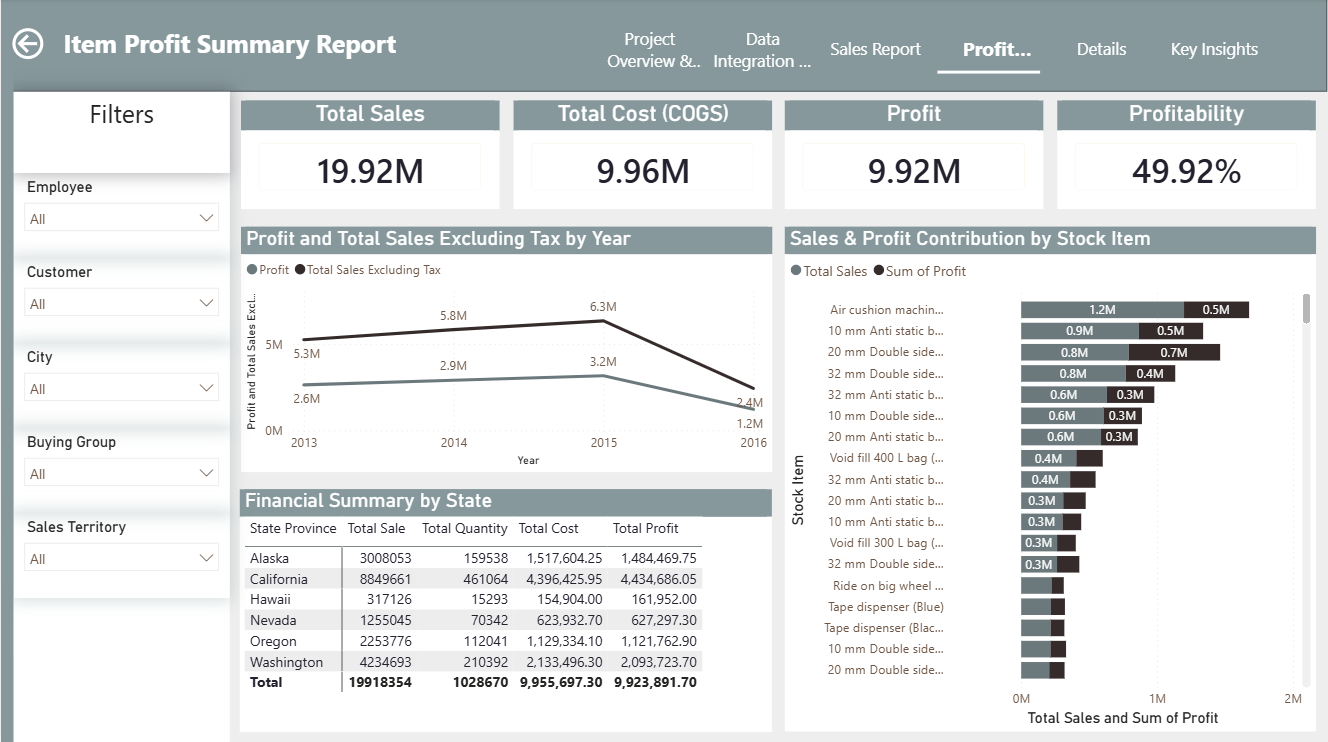

What the dashboard file says about the page in this screenshot:
{"tool":"powerbi","page":{"name":"Profit Report","canvas":[1280,720],"ordinal":3},"visuals":[{"type":"shape","box":[12.1,71.2,208.7,649.1],"z":0},{"type":"shape","box":[0,0,1280,90.5],"z":1000},{"type":"slicer","fields":{"Values":["DimEmployee.Employee"]},"box":[12.5,168.3,208.7,82.1],"z":2000},{"type":"textbox","box":[12.1,90.5,208.7,78.4],"z":3000},{"type":"shape","box":[0,0,12.3,720.4],"z":4000},{"type":"textbox","box":[53.1,22.9,335.4,45.8],"z":5000},{"type":"cardVisual","title":"Total Sales","fields":{"Data":["All Measures.Total Sale with sumx"]},"box":[231.6,98.9,249.7,105],"z":6000},{"type":"cardVisual","title":"Total Cost (COGS)","fields":{"Data":["Sum(FactSale.Cost)"]},"box":[494.2,98.9,249.7,105],"z":7000},{"type":"cardVisual","title":"Profit","fields":{"Data":["Sum(FactSale.Profit)"]},"box":[756.8,98.9,249.7,105],"z":8000},{"type":"cardVisual","title":"Profitability","fields":{"Data":["All Measures.Profitability"]},"box":[1019.4,98.9,249.7,105],"z":9000},{"type":"lineChart","fields":{"Y":["Sum(FactSale.Profit)","Sum(FactSale.Total Excluding Tax)"],"Category":["DimDate.Date.Variation.Date Hierarchy.Year","DimDate.Date.Variation.Date Hierarchy.Quarter","DimDate.Date.Variation.Date Hierarchy.Month","DimDate.Date.Variation.Date Hierarchy.Day"]},"box":[231.6,220.8,512.7,236.5],"z":10000},{"type":"barChart","title":"Sales & Profit Contribution by Stock Item","fields":{"Y":["Sum(FactSale.Total Excluding Tax)","Sum(FactSale.Profit)"],"Category":["DimStockItem.Stock Item"]},"box":[756.4,220.8,512.7,487.4],"z":11000},{"type":"pivotTable","title":"Financial Summary by State","fields":{"Rows":["DimCity.State Province"],"Values":["All Measures.Total Sale with sumx","Sum(FactSale.Quantity)","Sum(FactSale.Cost)","Sum(FactSale.Profit)"]},"box":[230.4,474.1,513.9,234],"z":12000},{"type":"slicer","fields":{"Values":["DimCustomer.Customer"]},"box":[12.5,250.4,208.7,82.1],"z":13000},{"type":"slicer","fields":{"Values":["DimCity.City"]},"box":[12.5,332.5,208.7,82.1],"z":14000},{"type":"slicer","fields":{"Values":["DimCustomer.Buying Group"]},"box":[12.5,414.6,208.7,82.1],"z":15000},{"type":"slicer","fields":{"Values":["DimCity.Sales Territory"]},"box":[12.1,497.1,208.7,82],"z":16000},{"type":"pageNavigator","box":[576.7,24.1,645.4,49.5],"z":17000},{"type":"actionButton","box":[6,24.1,100.1,39.8],"z":18000}]}

Visuals, with their boxes on the page's 1280x720 design canvas (x1, y1, x2, y2). These are canvas units, not pixel positions in the 1328x742 screenshot, which may show the page scaled, cropped or inside an application window:
shape: Rect(12, 71, 221, 720)
shape: Rect(0, 0, 1280, 90)
slicer - DimEmployee.Employee: Rect(12, 168, 221, 250)
textbox: Rect(12, 90, 221, 169)
shape: Rect(0, 0, 12, 720)
textbox: Rect(53, 23, 388, 69)
"Total Sales" cardVisual: Rect(232, 99, 481, 204)
"Total Cost (COGS)" cardVisual: Rect(494, 99, 744, 204)
"Profit" cardVisual: Rect(757, 99, 1006, 204)
"Profitability" cardVisual: Rect(1019, 99, 1269, 204)
lineChart - Sum(FactSale.Profit) x Sum(FactSale.Total Excluding Tax): Rect(232, 221, 744, 457)
"Sales & Profit Contribution by Stock Item" barChart: Rect(756, 221, 1269, 708)
"Financial Summary by State" pivotTable: Rect(230, 474, 744, 708)
slicer - DimCustomer.Customer: Rect(12, 250, 221, 332)
slicer - DimCity.City: Rect(12, 332, 221, 415)
slicer - DimCustomer.Buying Group: Rect(12, 415, 221, 497)
slicer - DimCity.Sales Territory: Rect(12, 497, 221, 579)
pageNavigator: Rect(577, 24, 1222, 74)
actionButton: Rect(6, 24, 106, 64)
